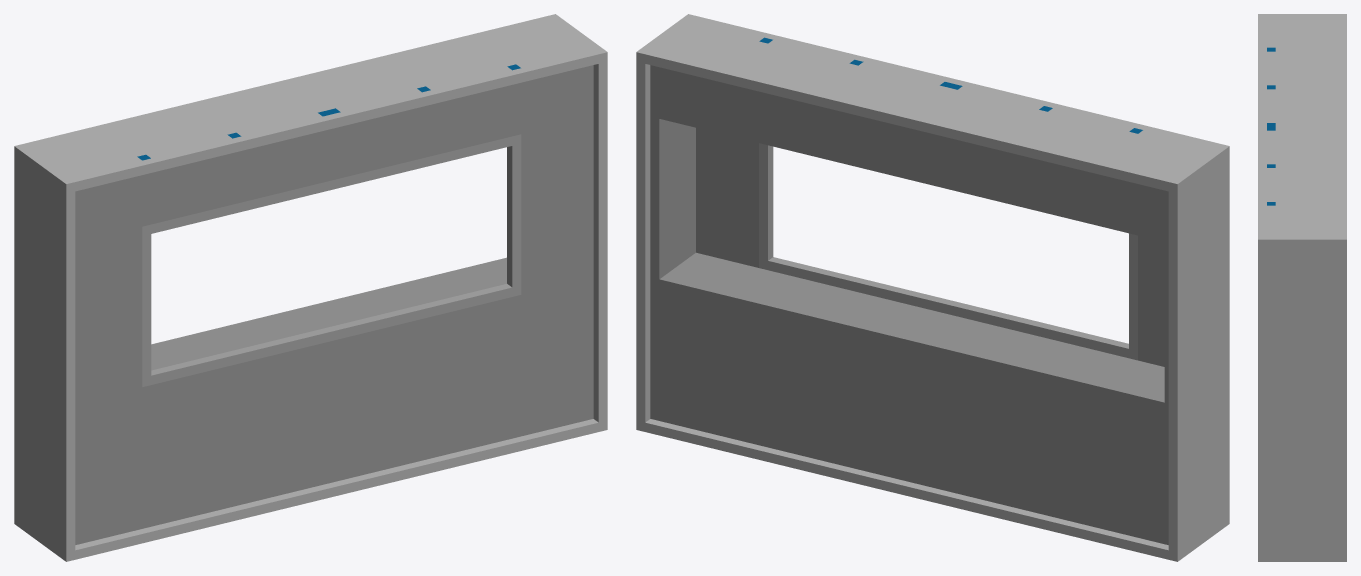
The model's file is Security Wall 3.obj.
3 renders of one model, left to right at view 1: azimuth 30°, elevation 25°; view 2: azimuth 150°, elevation 25°; view 3: azimuth 270°, elevation 25°, orthographic. The views are drawn at different scales.
Size of the model in its own units: 60 by 40 by 10.
1 material, 1 textured.
